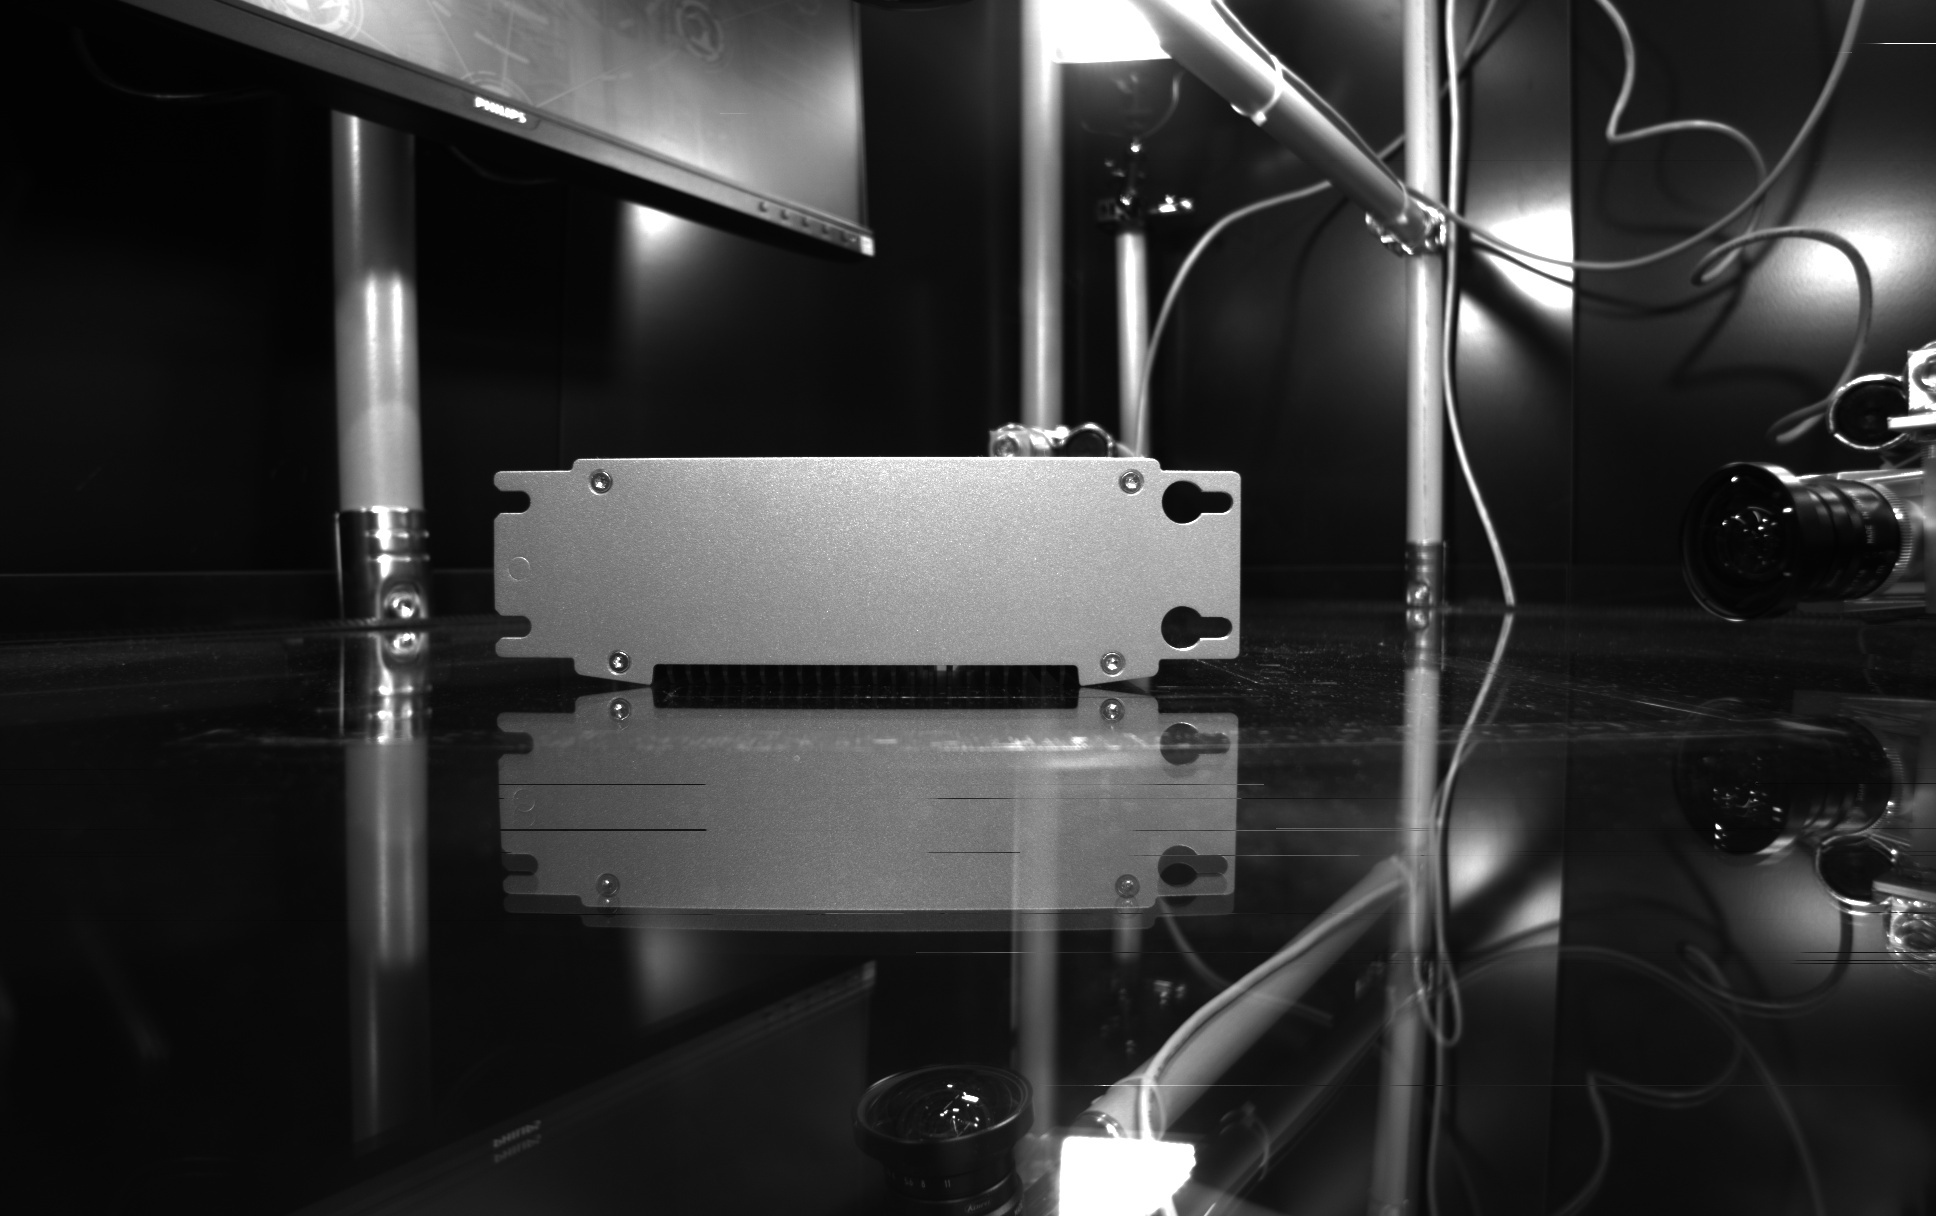CamBack: (464, 429, 1266, 693)
Schraube: (600, 643, 637, 679), (1097, 644, 1131, 679), (1116, 465, 1152, 497), (584, 462, 616, 496)
Schraube_gespiegelt: (1093, 693, 1138, 749), (587, 869, 630, 925), (1107, 869, 1150, 925), (600, 693, 643, 749)
